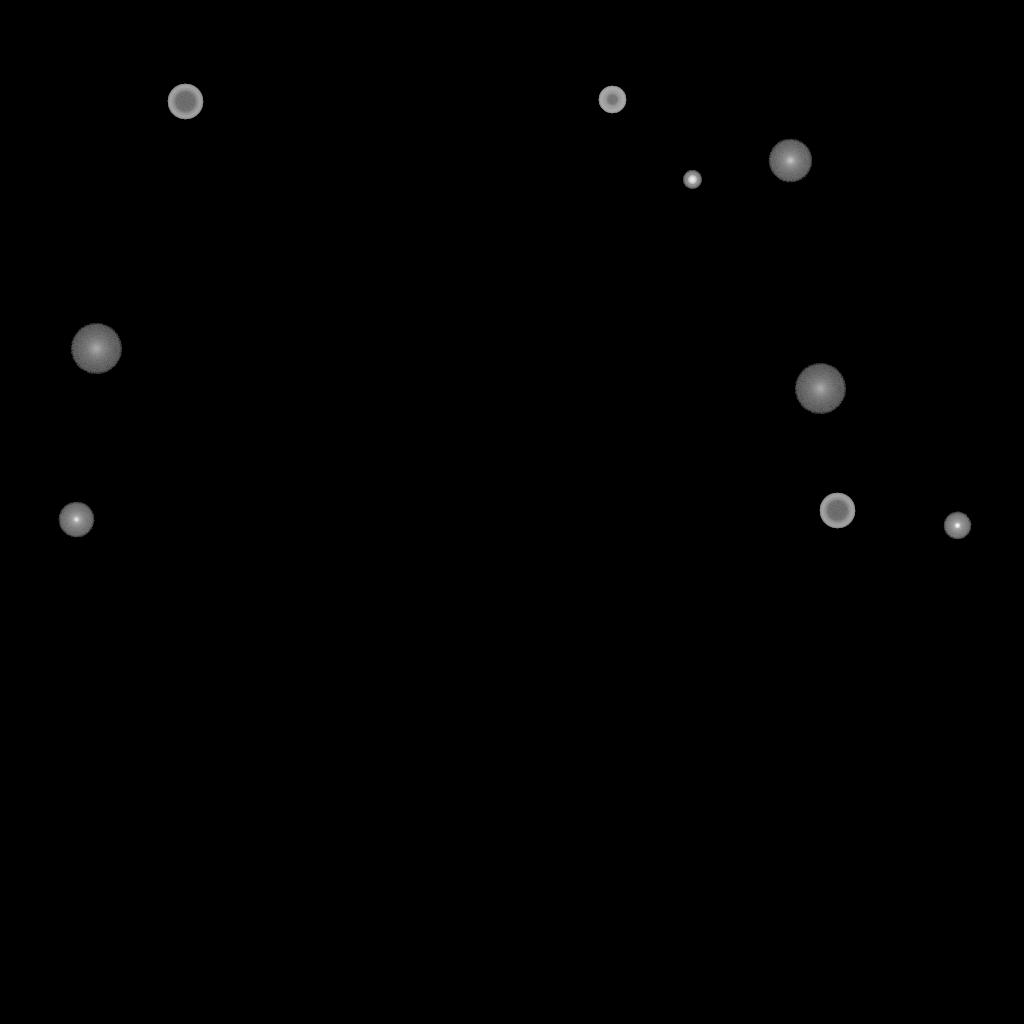depth:-10: (943, 512, 971, 540)
depth:-20: (683, 171, 701, 189)
depth:-50: (598, 86, 626, 114)
depth:-60: (819, 493, 855, 529), (167, 84, 203, 120)
depth:0: (58, 502, 94, 538)
depth:10: (768, 139, 812, 183)
depth:20: (794, 364, 846, 414), (70, 324, 122, 374)
